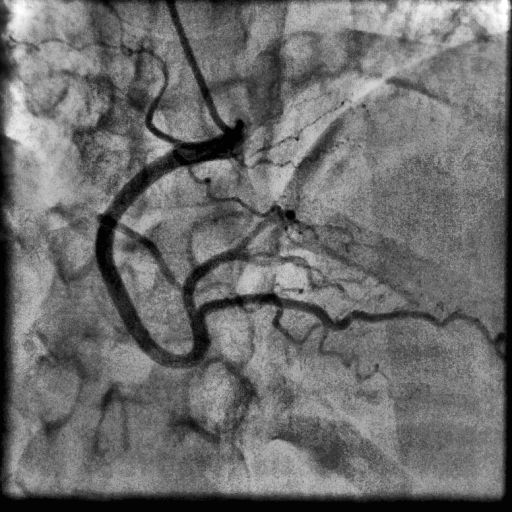pborca: (182, 217, 277, 312)
pda: (200, 294, 456, 330)
rca: (95, 136, 226, 370)
